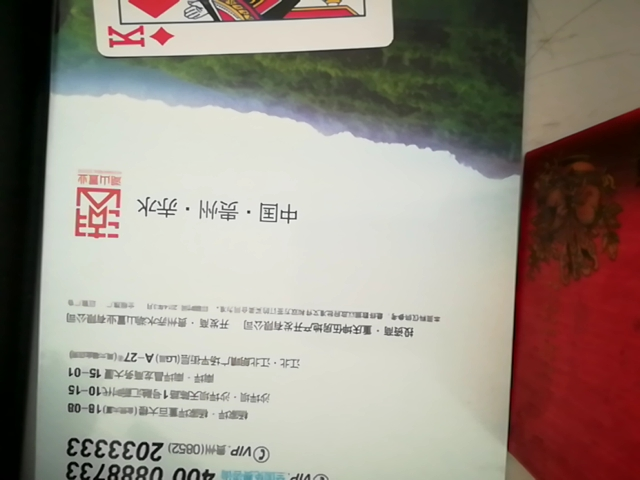fk k: (85, 0, 395, 64)
